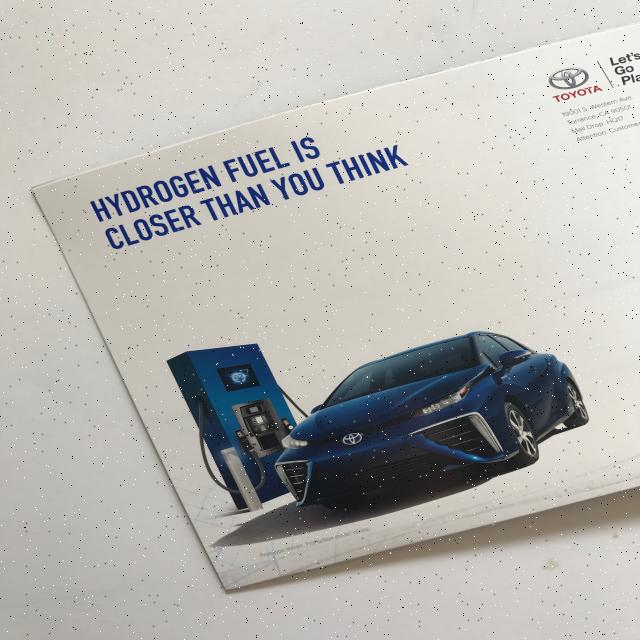paper: (29, 20, 639, 592)
